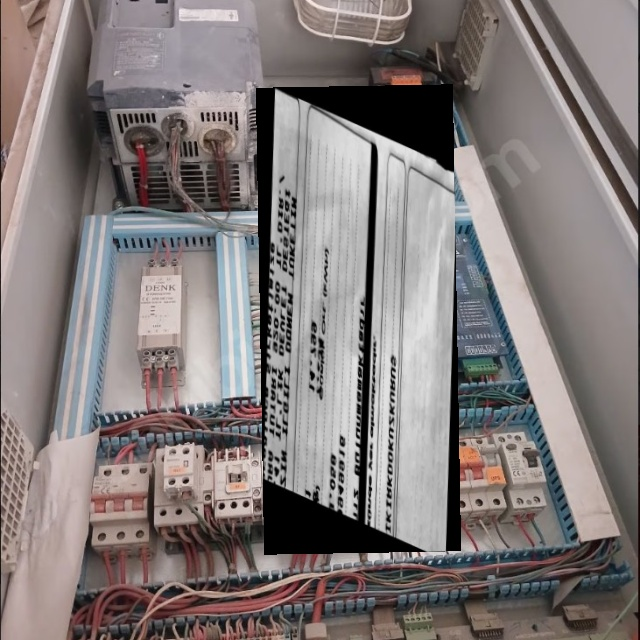electricity-bill: (256, 83, 460, 554)
